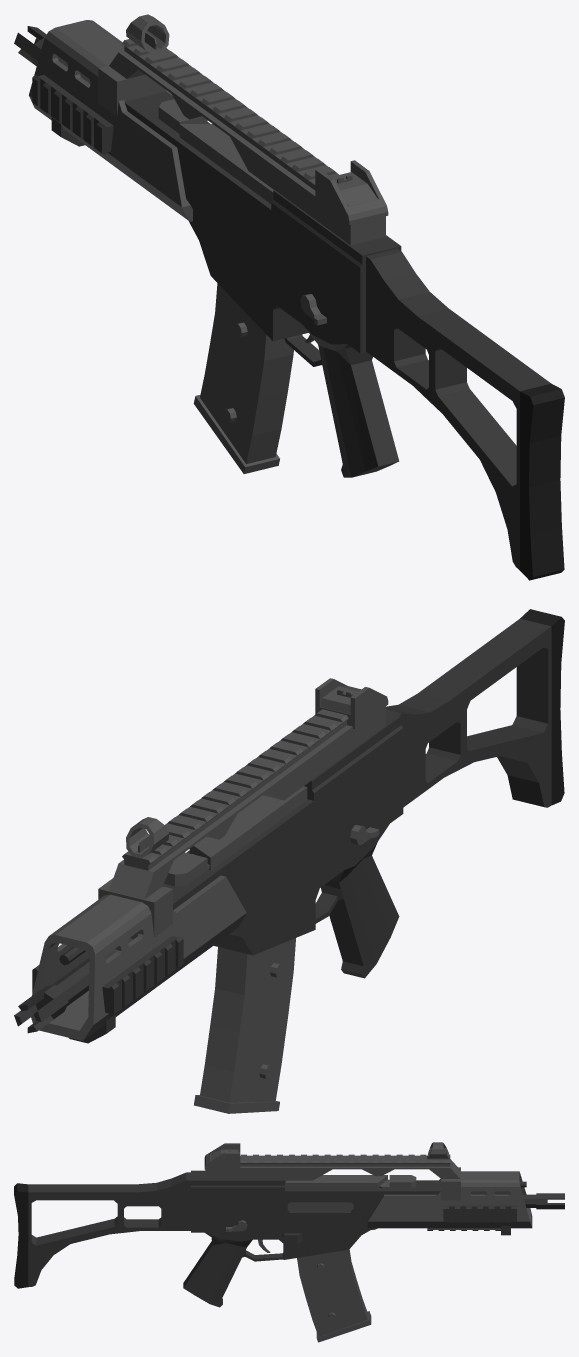
3 renders of one model, top to bottom at view 1: azimuth 30°, elevation 25°; view 2: azimuth 150°, elevation 25°; view 3: azimuth 270°, elevation 25°, orthographic. The views are drawn at different scales.
Parts seen in each view (by area): view 1: G36C, Magazin, Bolt; view 2: G36C, Magazin, Bolt; view 3: G36C, Magazin, Bolt.
Boxes of the visible parts, x1,y1,x2,y2 form: G36C: (14, 14, 564, 580); Magazin: (193, 283, 293, 473); Bolt: (179, 124, 273, 203); G36C: (14, 609, 564, 1043); Magazin: (194, 938, 295, 1113); Bolt: (189, 786, 307, 870); G36C: (14, 1142, 564, 1307); Magazin: (297, 1249, 371, 1342); Bolt: (286, 1175, 387, 1211).
Bounding box in the file's own units: 7.95 × 34.27 × 87.91.
1 material, 1 textured.
